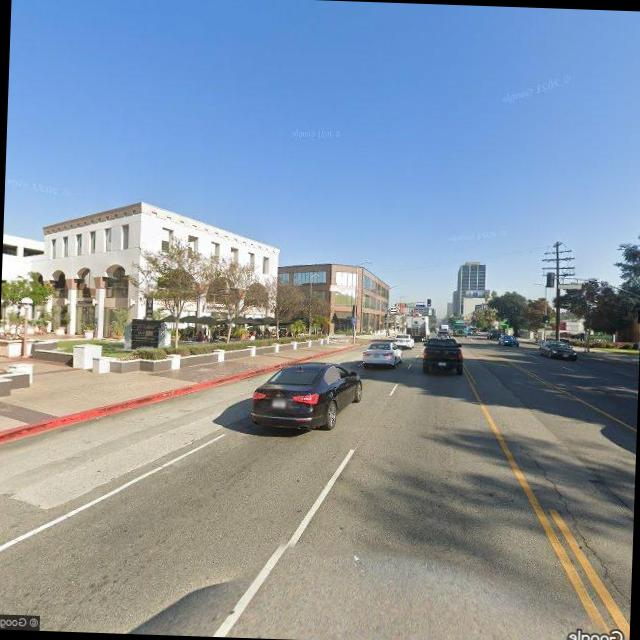pothole: (518, 445, 636, 619)
